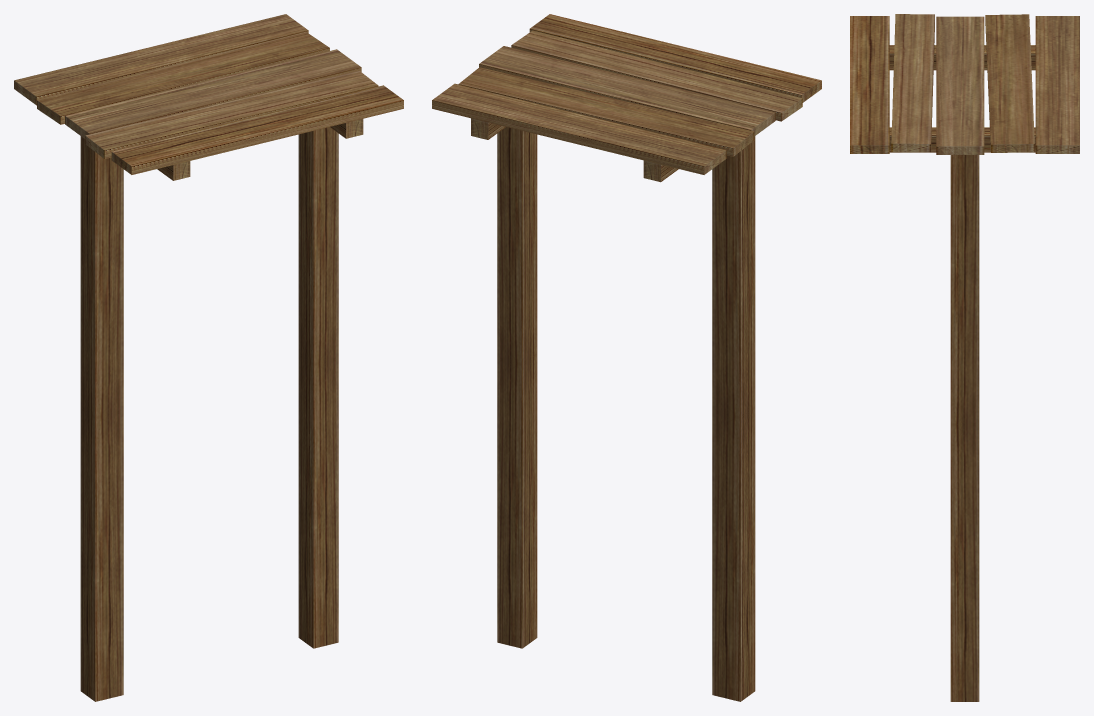
Rendered from BridgeWoodClimb02.FBX.
3 views of the same model, side by side, from view 1: azimuth 30°, elevation 25°; view 2: azimuth 150°, elevation 25°; view 3: azimuth 270°, elevation 25° (orthographic). The views are drawn at different scales.
Parts seen in each view (by area): view 1: poles, BridgeWoodClimb02; view 2: poles, BridgeWoodClimb02; view 3: BridgeWoodClimb02, poles.
Boxes of the visible parts, x1,y1,x2,y2 form: poles: (80,127,338,701); BridgeWoodClimb02: (14,14,403,180); poles: (497,127,755,701); BridgeWoodClimb02: (432,14,821,182); BridgeWoodClimb02: (850,14,1079,154); poles: (950,155,979,701).
Bounding box in the file's own units: 376 × 745 × 276.
